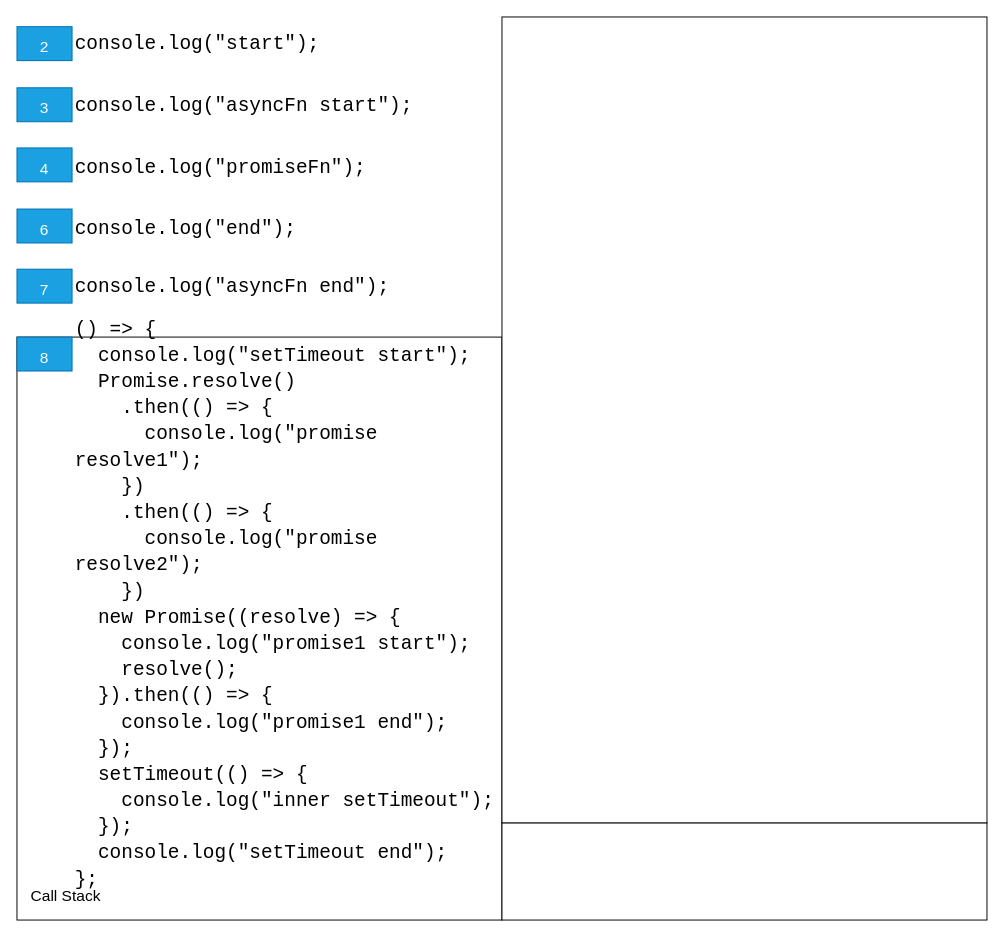
The diagram is 1004 pixels wide and 937 high, and some of its shapes have lost their labels. The box of each missing label's shape, as (x1, y1, x2, y2) in pixels:
MacroTask Queue: (501, 16, 987, 823)
MicroTask Queue: (501, 822, 987, 920)
